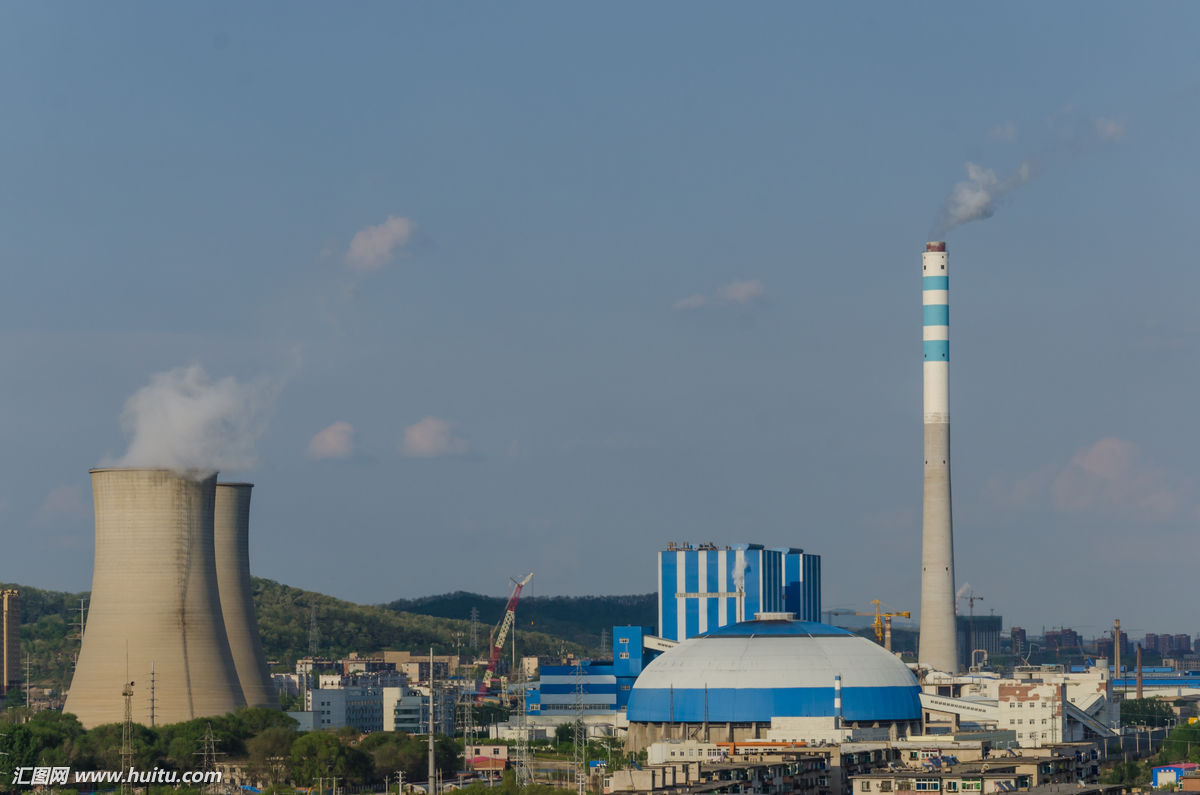dust: (82, 352, 280, 484), (911, 138, 1053, 254)
